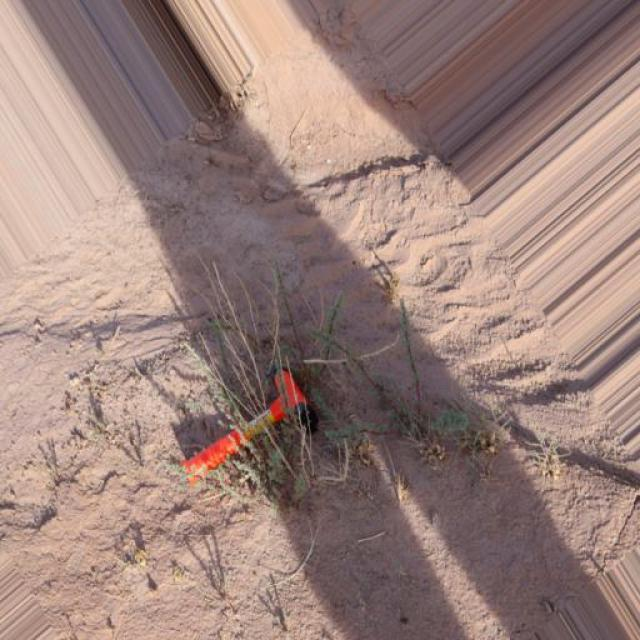mallet: (180, 365, 320, 487)
